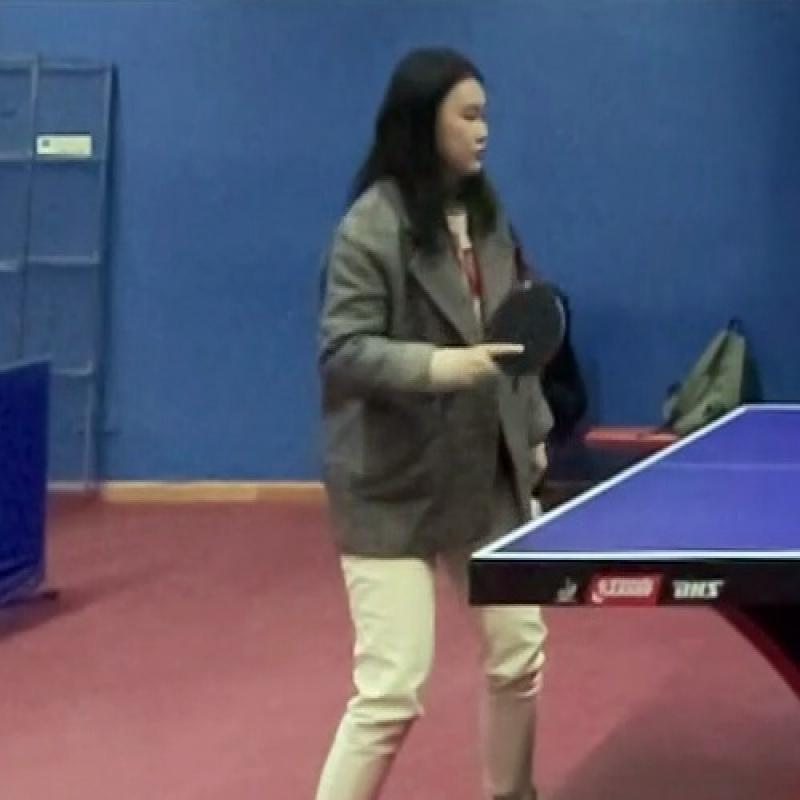bats: (472, 273, 576, 390)
